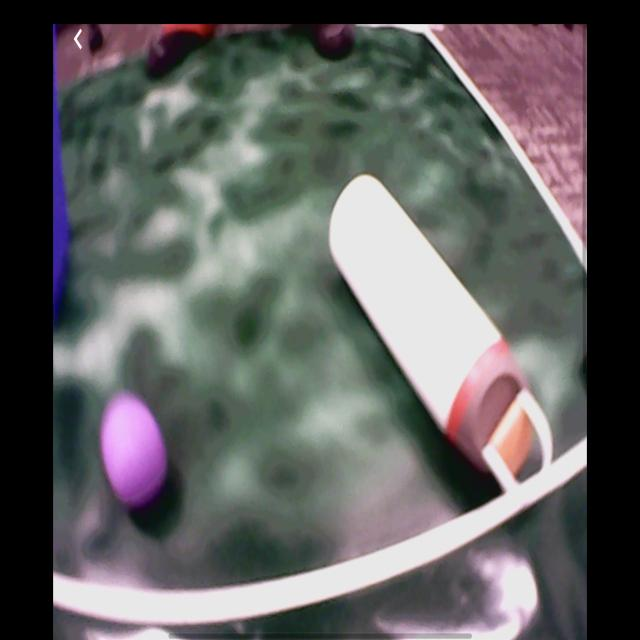ball: (100, 391, 169, 509)
